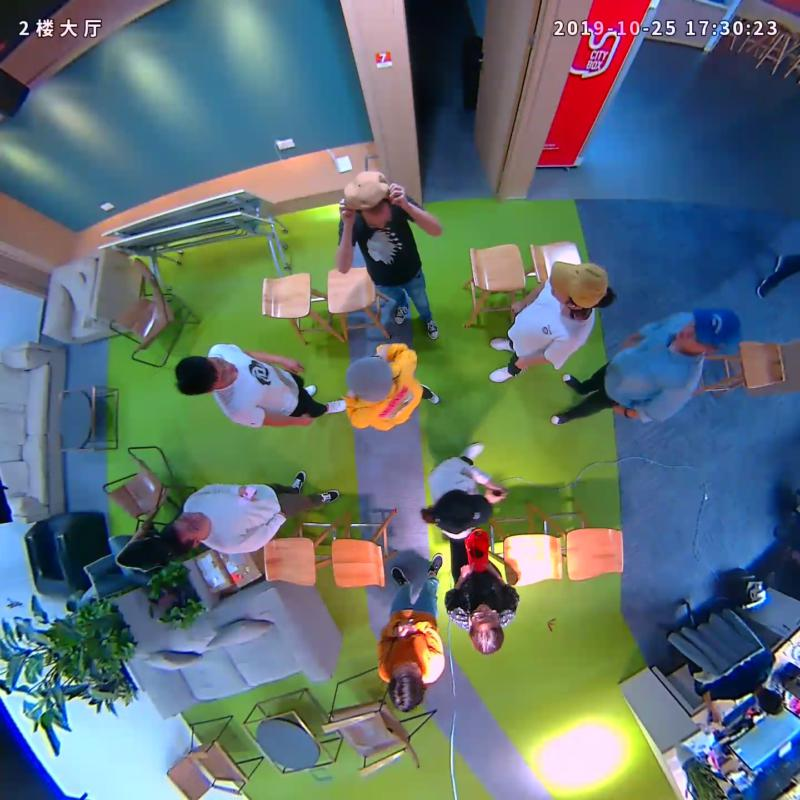head: (548, 259, 610, 311), (677, 306, 740, 354), (343, 170, 392, 230), (431, 490, 494, 534), (174, 355, 238, 396), (344, 355, 394, 402), (159, 511, 209, 556), (388, 658, 425, 712), (469, 603, 505, 655)
